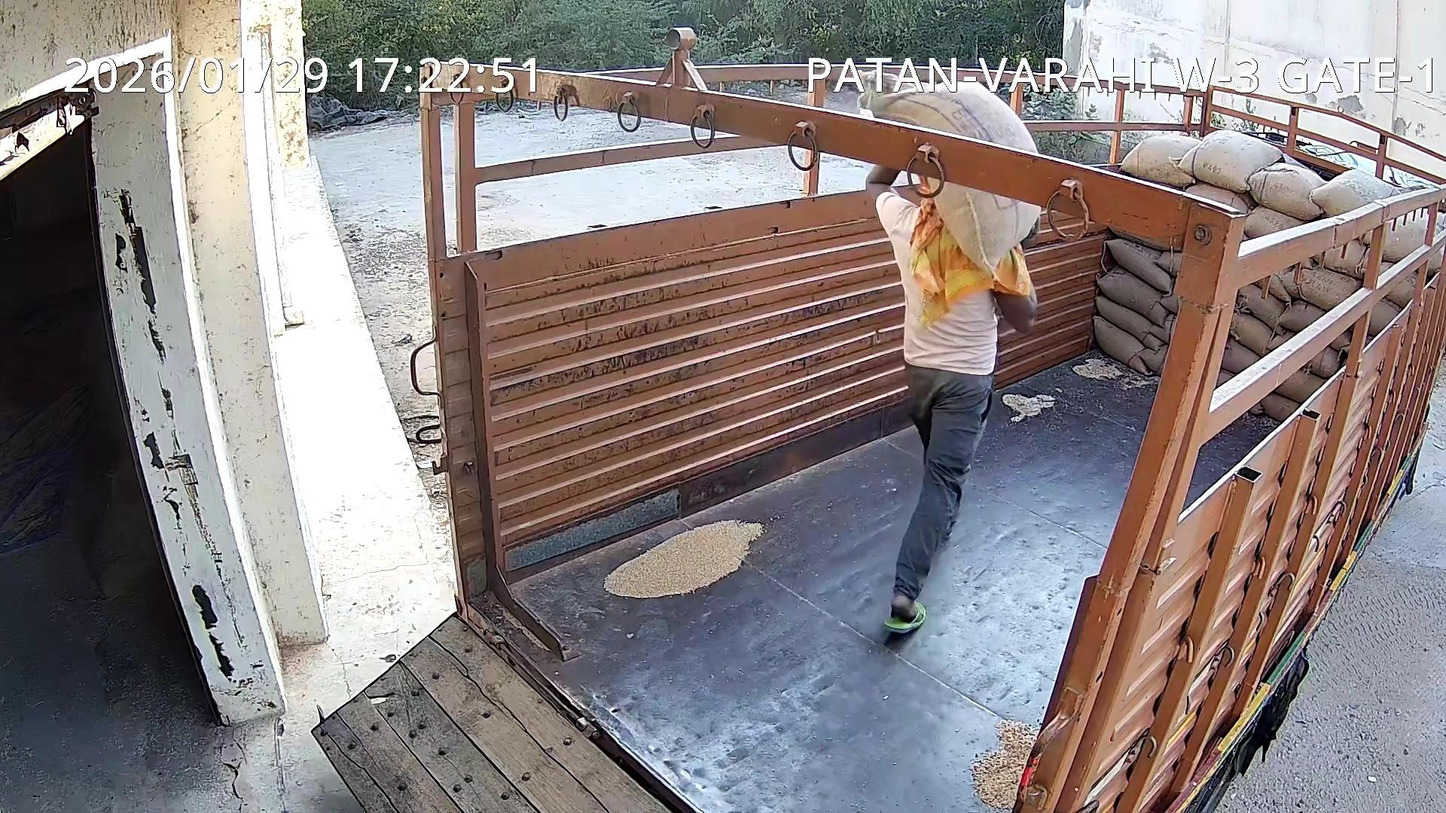Sack: (859, 75, 1036, 152), (919, 159, 1039, 269)
